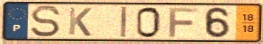0: (135, 6, 164, 39)
6: (204, 6, 233, 40)
F: (167, 6, 200, 39)
I: (120, 6, 129, 39)
K: (67, 6, 94, 37)
S: (30, 5, 63, 39)
